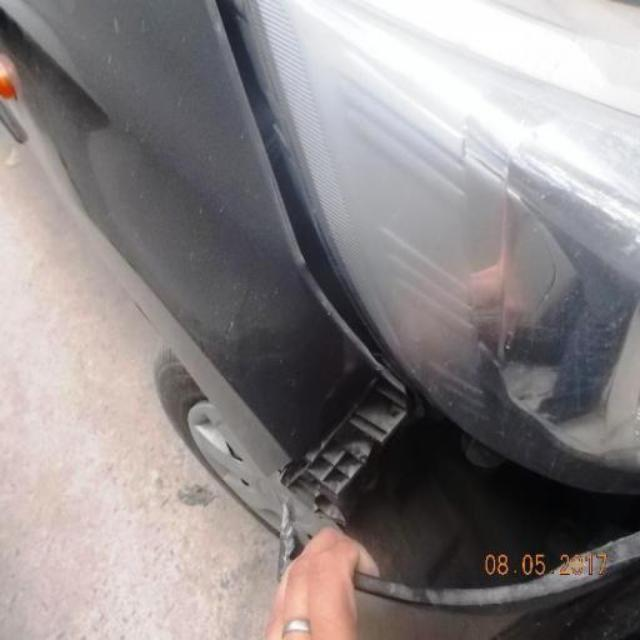dislocated part: (281, 395, 640, 612)
